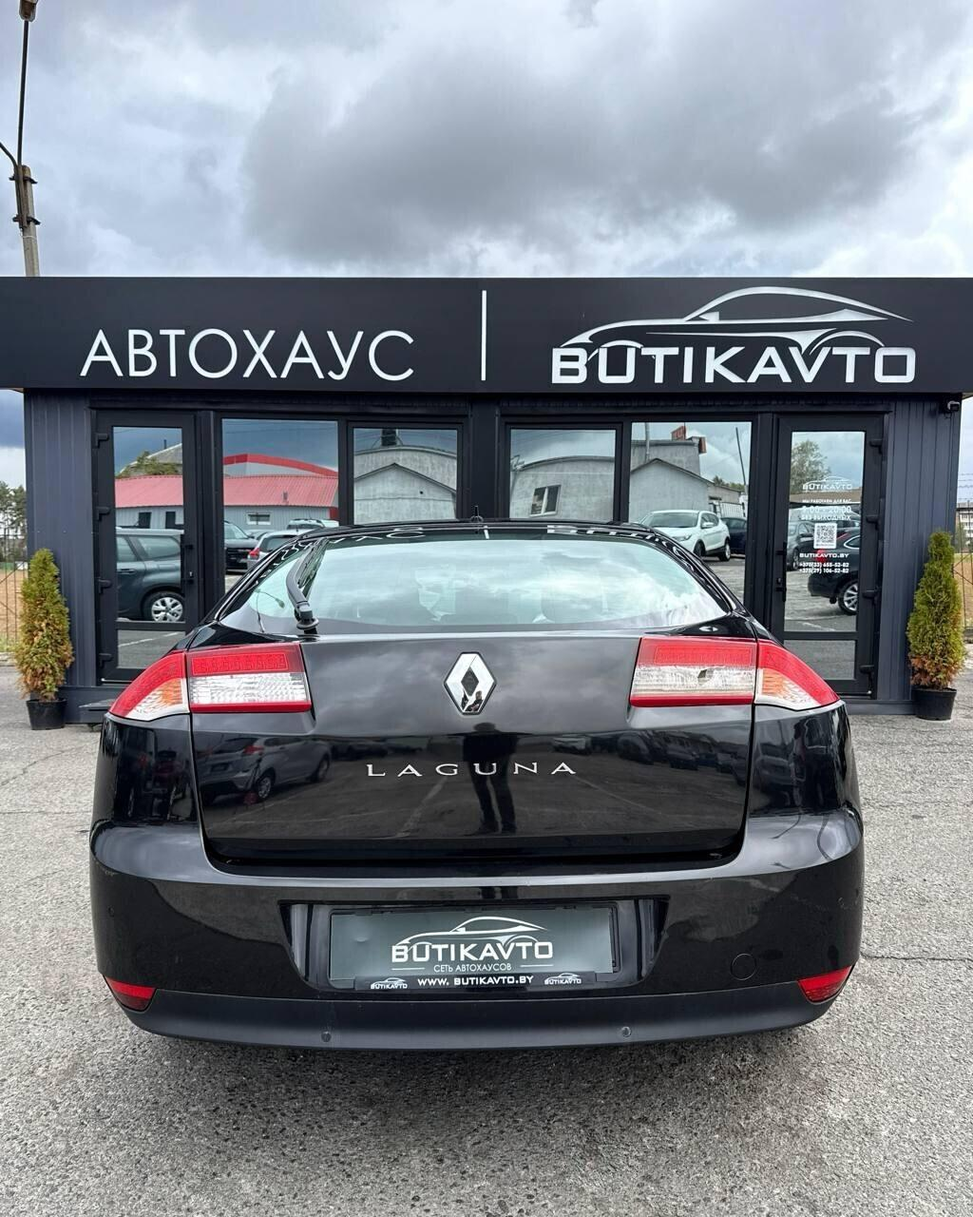Laguna_2010-2015: (73, 518, 871, 1071)
